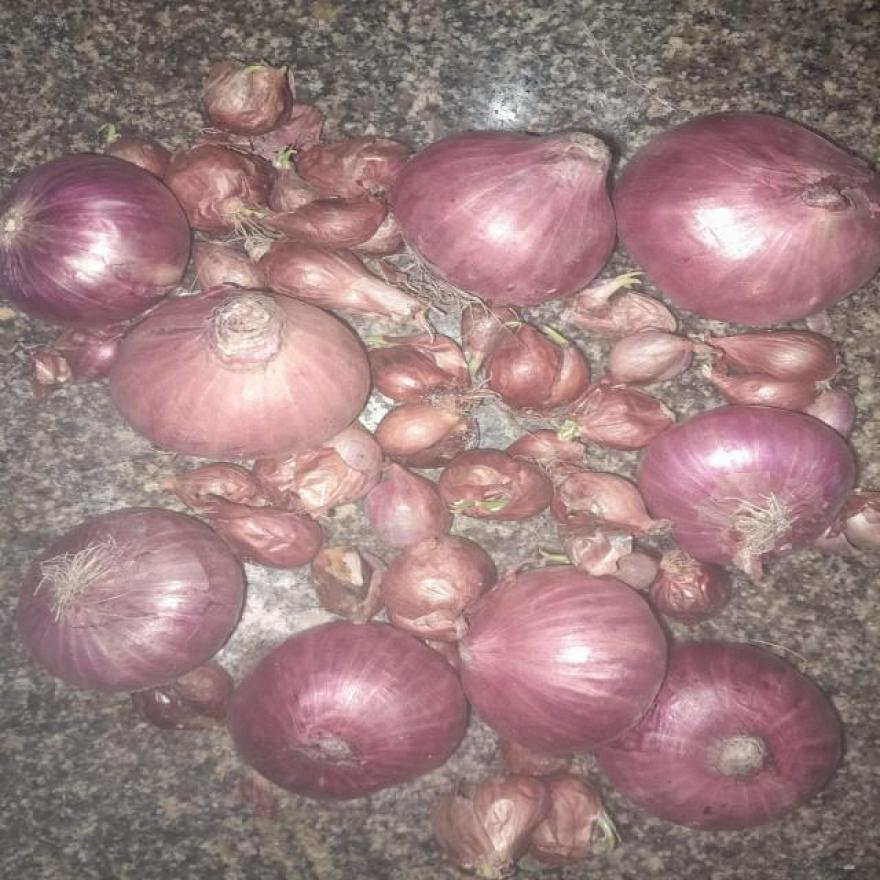Sprouted: (594, 273, 652, 305), (554, 414, 590, 441)
